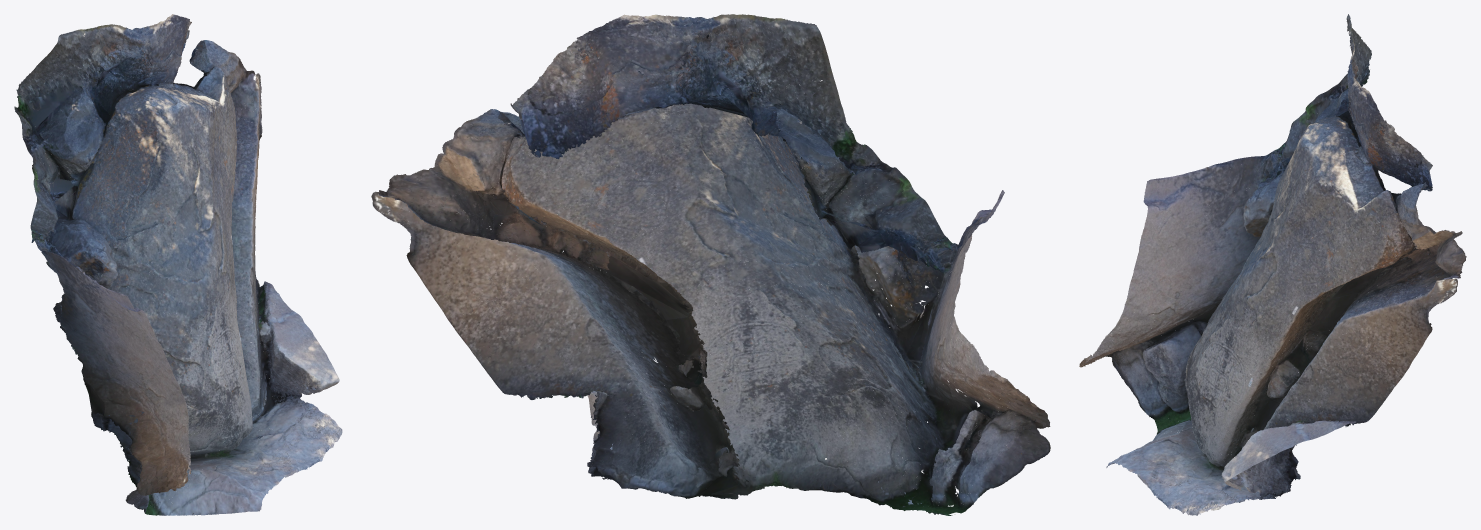
Rendered from mascara.glb.
3 renders of one model, left to right at view 1: azimuth 30°, elevation 25°; view 2: azimuth 150°, elevation 25°; view 3: azimuth 270°, elevation 25°, orthographic. The views are drawn at different scales.
Size of the model in its own units: 34.17 by 42.77 by 35.65.
Materials: 2 (1 with a texture image).
